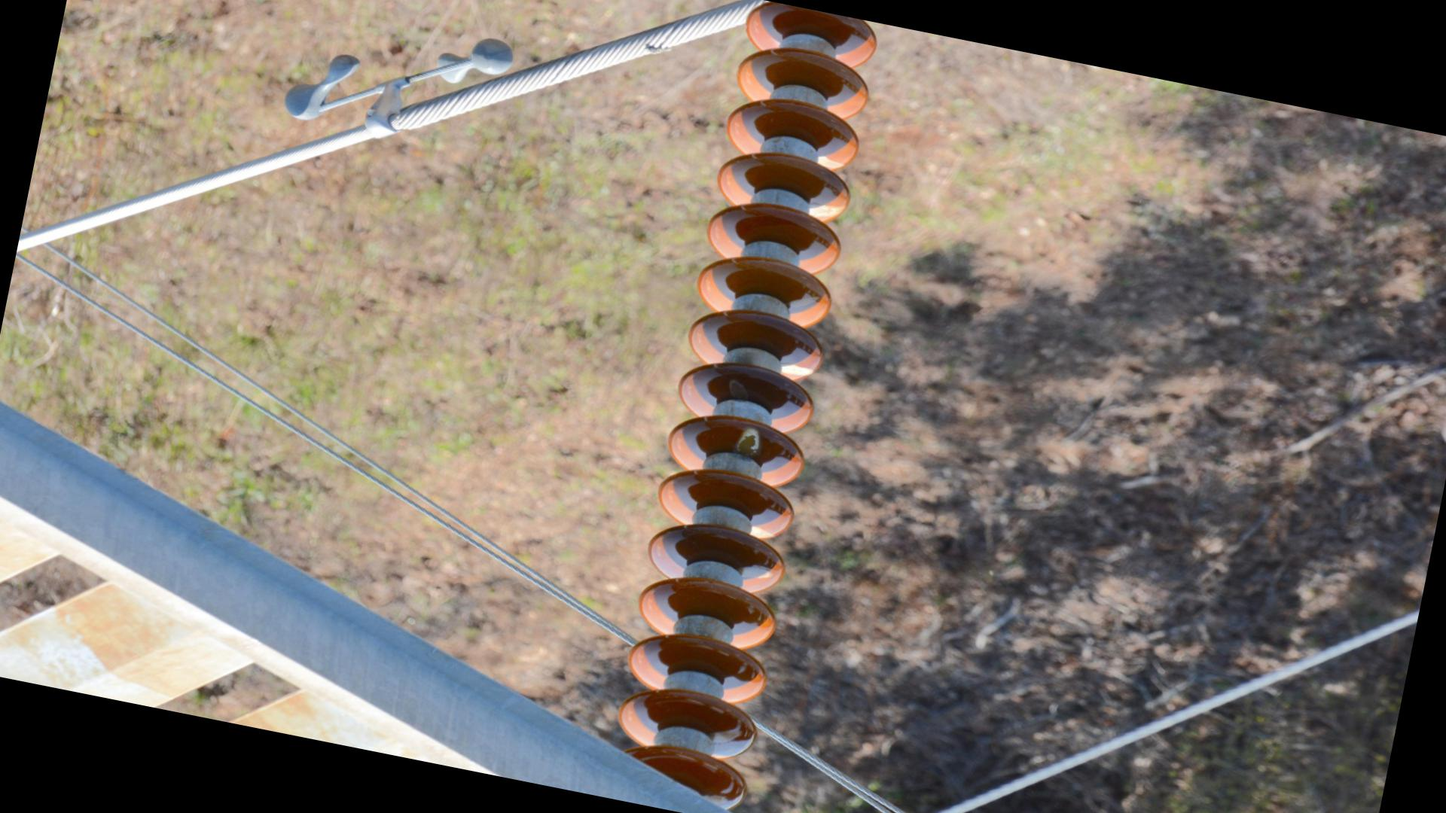damper: (276, 1, 523, 166)
